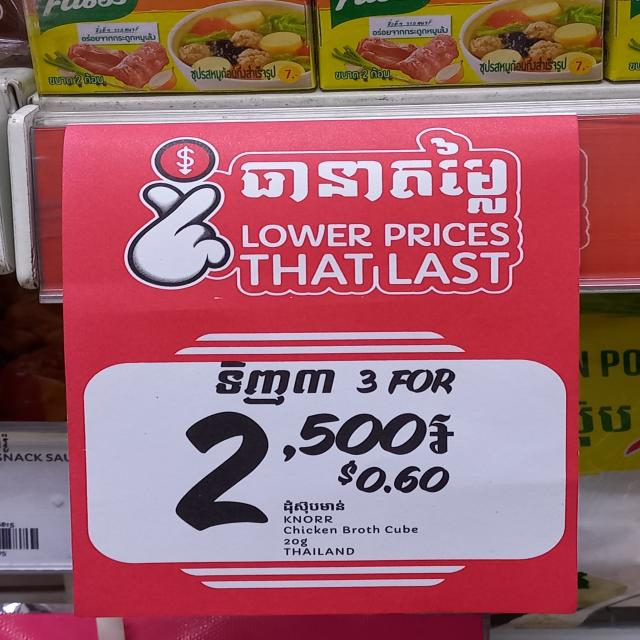199: (347, 463, 449, 496)
639: (279, 537, 301, 547)
681: (166, 409, 464, 533)
702: (353, 365, 380, 394)
Yolov11_80vkh: (228, 128, 523, 224), (202, 359, 341, 404), (280, 497, 351, 515)
